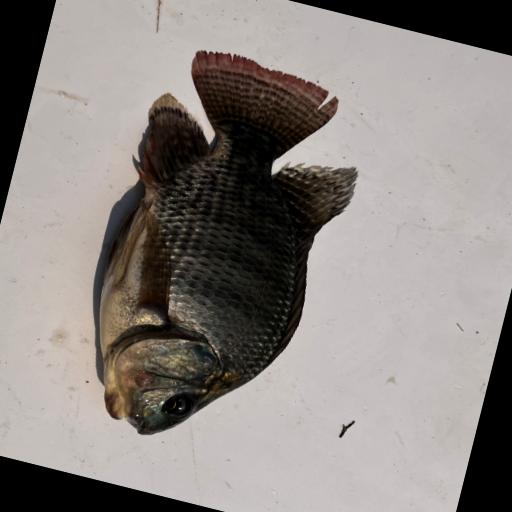Tilapia: (69, 36, 380, 471)
